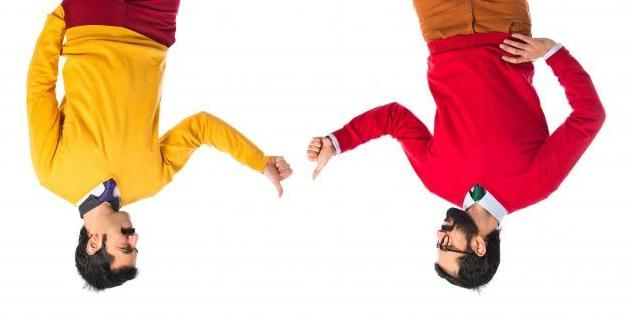thumbsdown: (306, 138, 327, 181), (272, 156, 293, 198)
